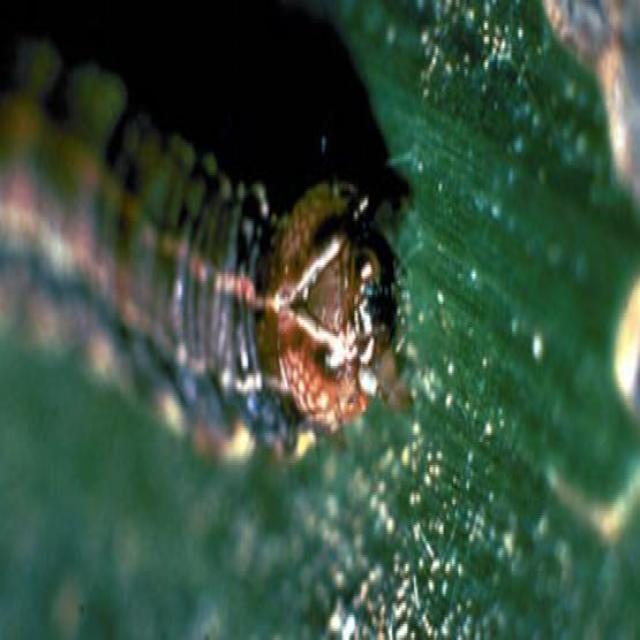Plaga: (2, 1, 421, 471)
